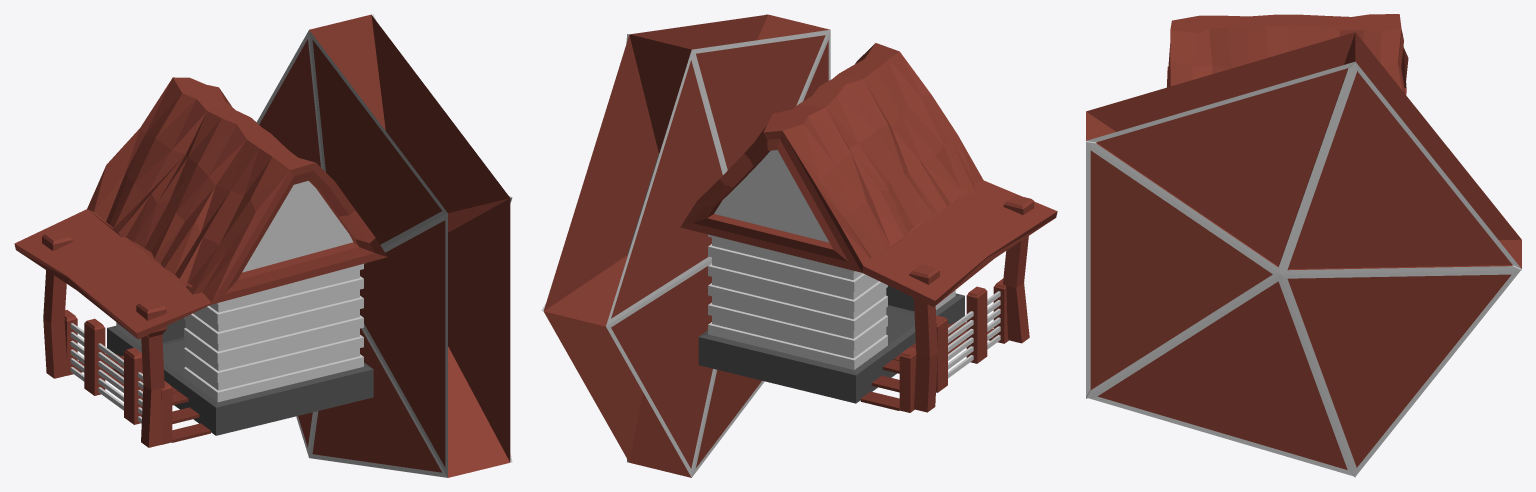
File: WATERMILL.fbx
The picture shows the model from 3 angles, left to right: view 1: azimuth 30°, elevation 25°; view 2: azimuth 150°, elevation 25°; view 3: azimuth 270°, elevation 25°; orthographic projection. The views are drawn at different scales.
Visible parts, largest first — view 1: Watermill; view 2: Watermill; view 3: Watermill.
Boxes of the visible parts, box(x1,y1,x2,y2) form: Watermill: box(14, 14, 512, 477); Watermill: box(541, 14, 1057, 477); Watermill: box(1086, 14, 1521, 477).
Bounding box in the file's own units: 50.22 × 60.04 × 57.1.
